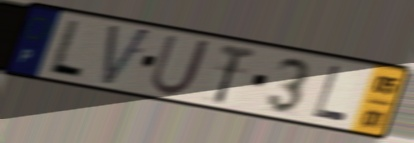3: (265, 56, 315, 115)
L: (45, 16, 86, 81), (310, 63, 349, 125)
T: (210, 42, 259, 106)
U: (147, 32, 214, 99)
V: (99, 22, 155, 90)
